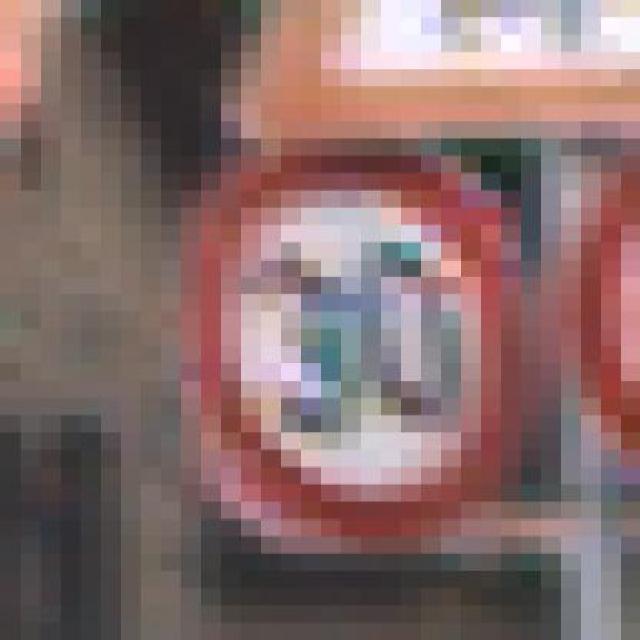Speed Limit 30 KMPh: (120, 69, 540, 554)
